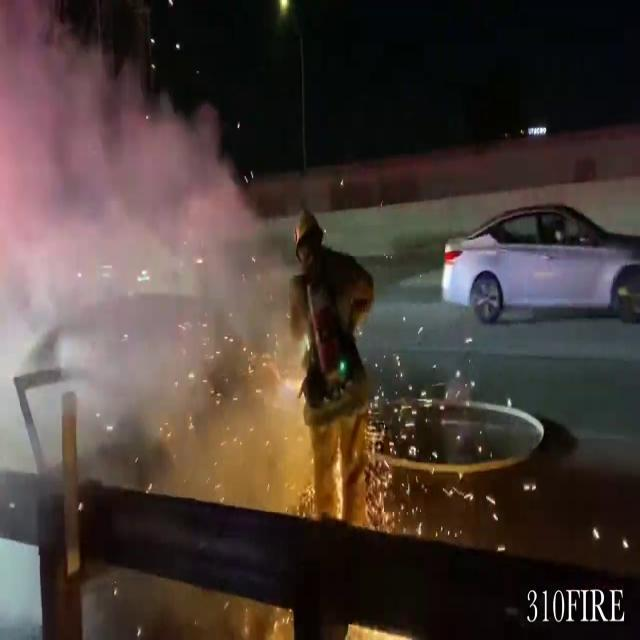Smoke: (0, 2, 298, 472)
